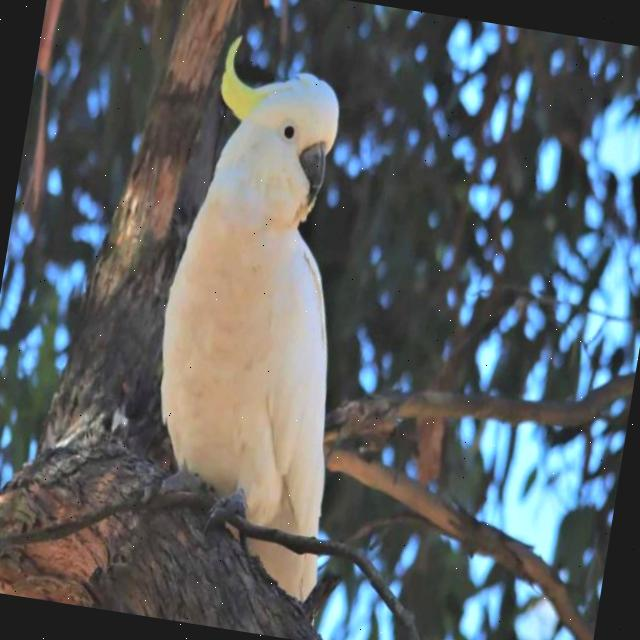Kakatua Putih: (105, 2, 421, 624)
